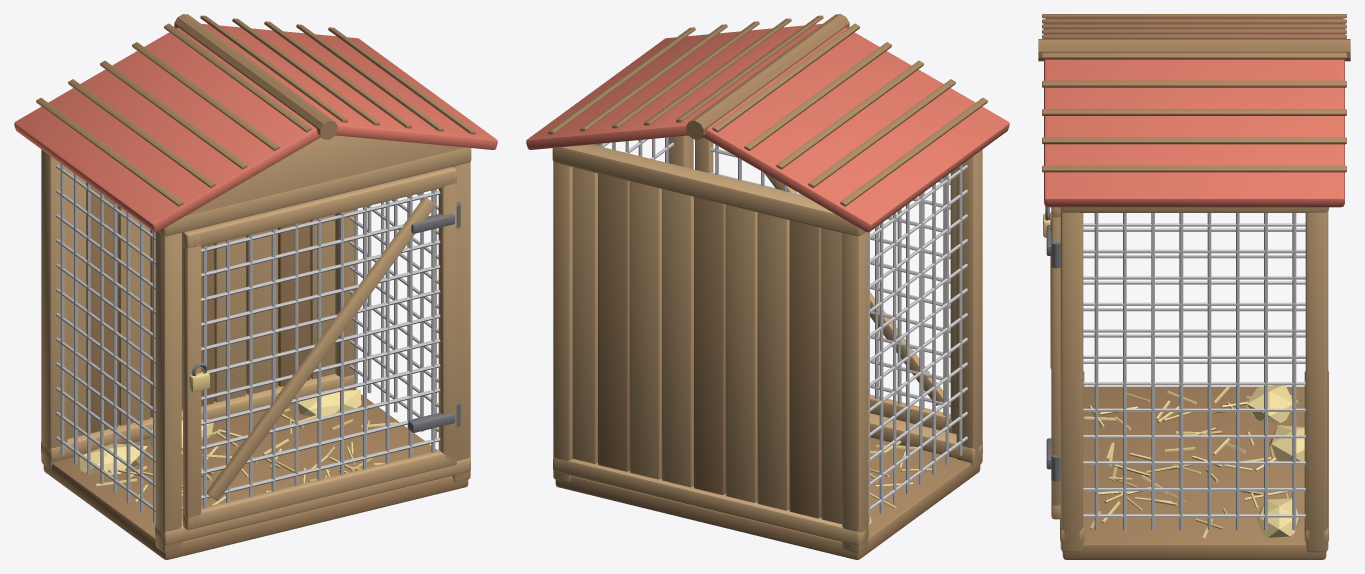
Rendered from cage.glb.
3 renders of one model, left to right at view 1: azimuth 30°, elevation 25°; view 2: azimuth 150°, elevation 25°; view 3: azimuth 270°, elevation 25°, orthographic. The views are drawn at different scales.
Parts seen in each view (by area): view 1: cage, door; view 2: cage, door; view 3: cage, door.
Part boxes in pixels (x1,y1,x2,y2): cage: [14, 14, 497, 559]; door: [183, 167, 460, 529]; cage: [526, 14, 1009, 559]; door: [695, 137, 956, 433]; cage: [1038, 14, 1350, 559]; door: [1043, 206, 1060, 519].
Size of the model in its own units: 2.27 by 2.59 by 1.66.
